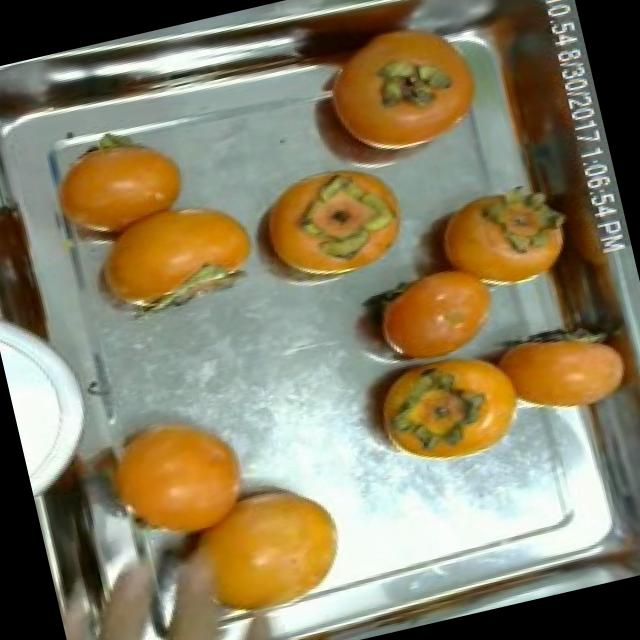Fruit: (288, 3, 504, 180), (67, 388, 271, 568), (61, 181, 272, 333), (168, 461, 362, 625), (236, 152, 424, 296), (31, 114, 206, 266), (334, 245, 519, 382), (481, 303, 640, 437), (0, 185, 79, 363)
